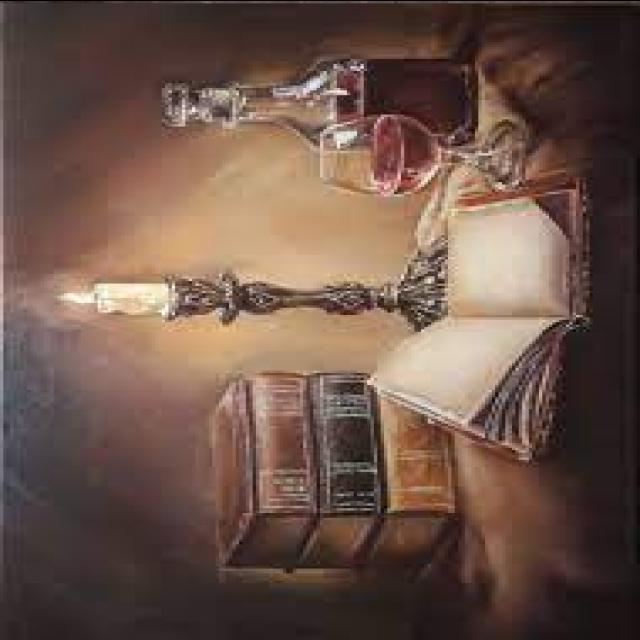book: (360, 170, 620, 462)
